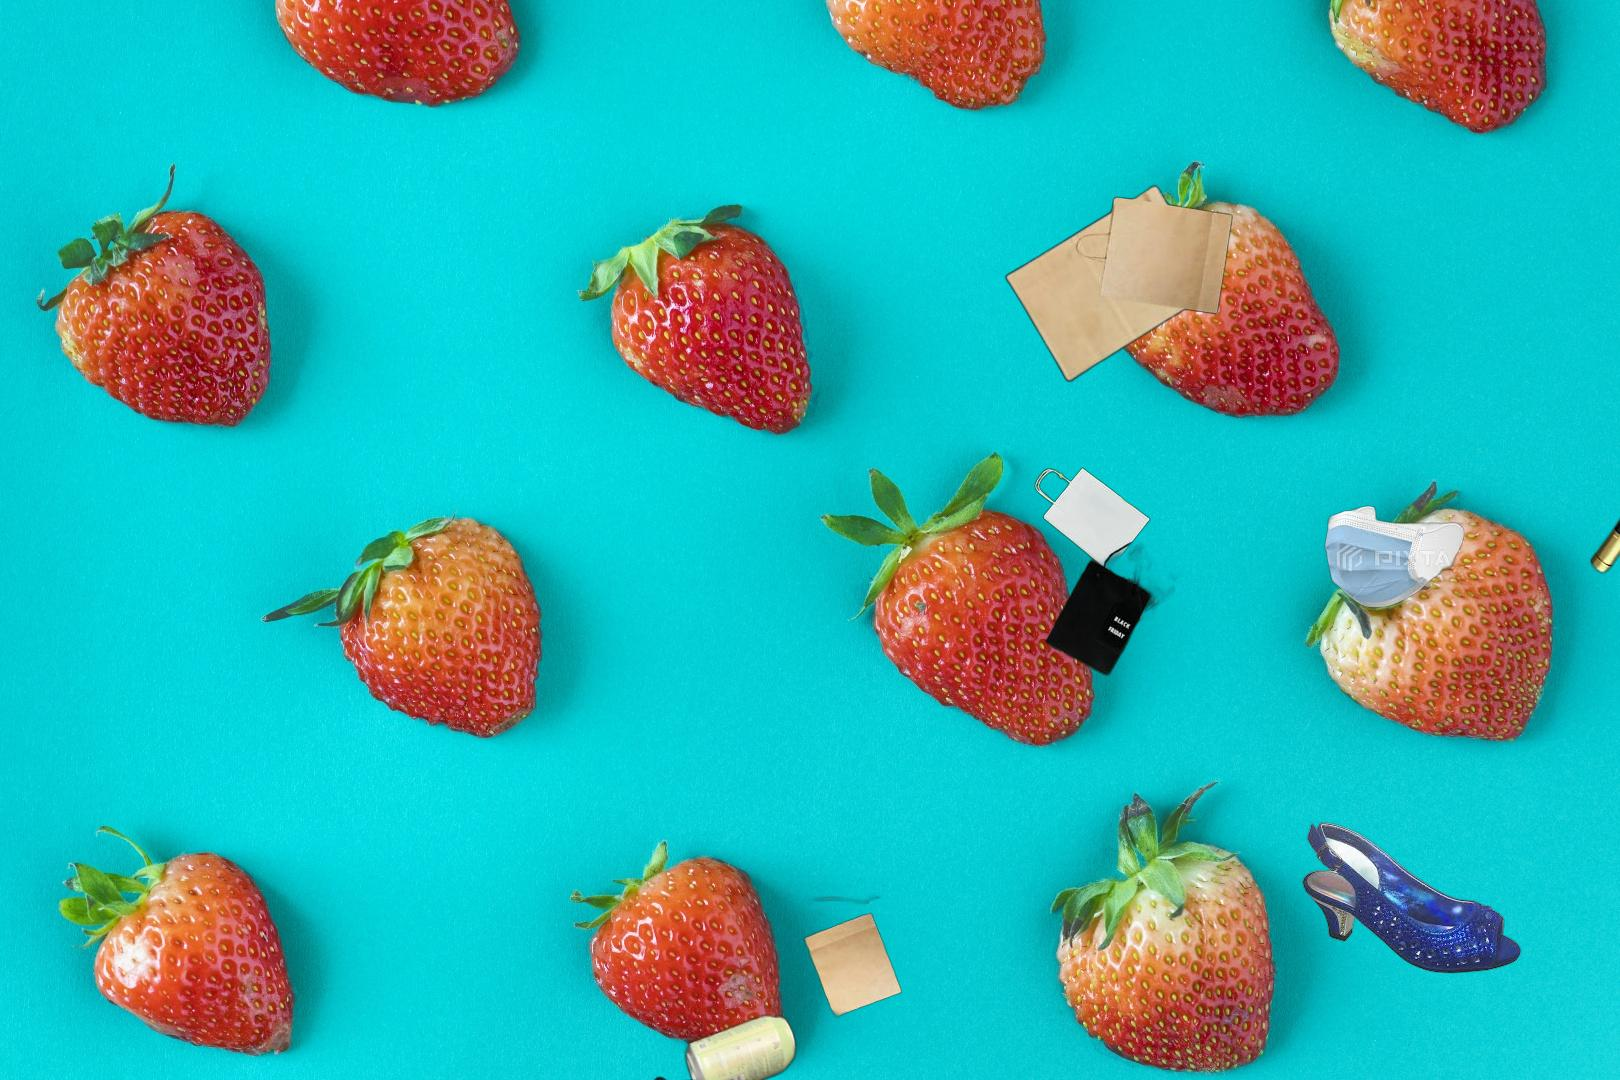glass: (1586, 354, 1620, 579)
metal-cans: (681, 1008, 800, 1080)
paper-bag: (702, 782, 912, 1020), (1003, 182, 1235, 387), (1032, 465, 1182, 677)
plastic-bag: (492, 1075, 763, 1080)
shoes: (1301, 820, 1524, 976)
trash: (1322, 503, 1467, 610)
